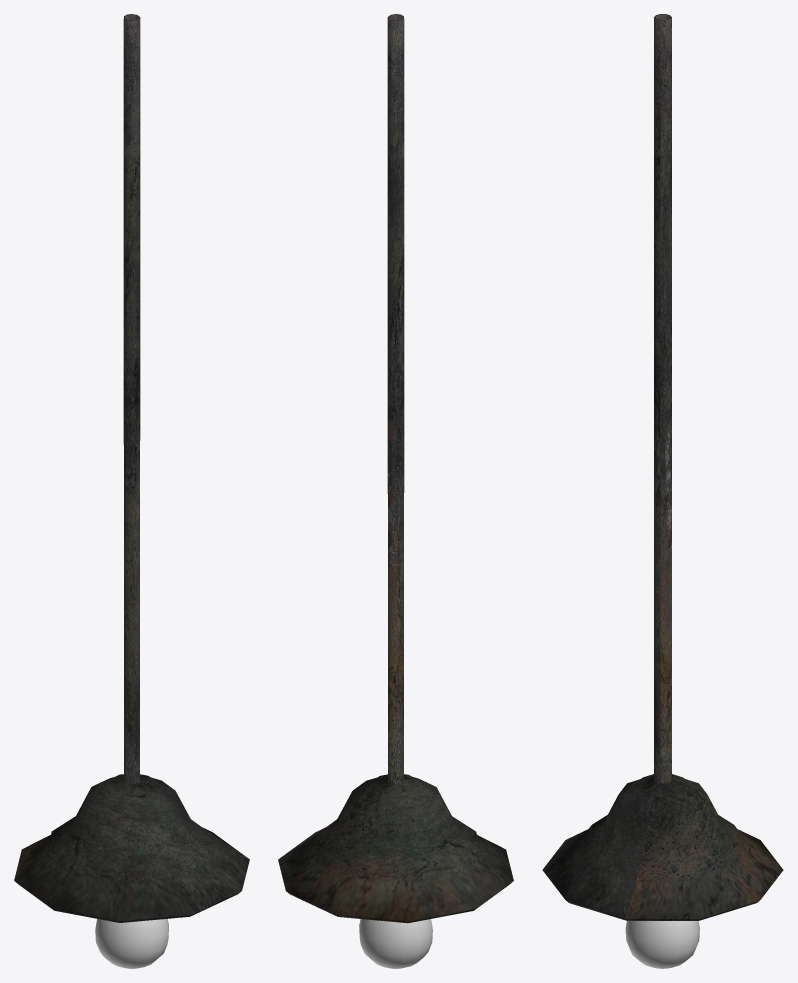
The model's file is LightBulb2.fbx.
3 views of the same model, side by side, from view 1: azimuth 30°, elevation 25°; view 2: azimuth 150°, elevation 25°; view 3: azimuth 270°, elevation 25° (orthographic).
Visible parts, largest first — view 1: Circle, Cylinder; view 2: Circle, Cylinder; view 3: Circle, Cylinder.
Boxes of the visible parts, x1=… form: Circle: x1=14, y1=14, x2=249, y2=922; Cylinder: x1=95, y1=919, x2=168, y2=968; Circle: x1=278, y1=14, x2=513, y2=923; Cylinder: x1=359, y1=919, x2=432, y2=968; Circle: x1=542, y1=14, x2=783, y2=920; Cylinder: x1=625, y1=921, x2=699, y2=968.
Bounding box in the file's own units: 200 × 912 × 210.
4 materials, 2 textured.
